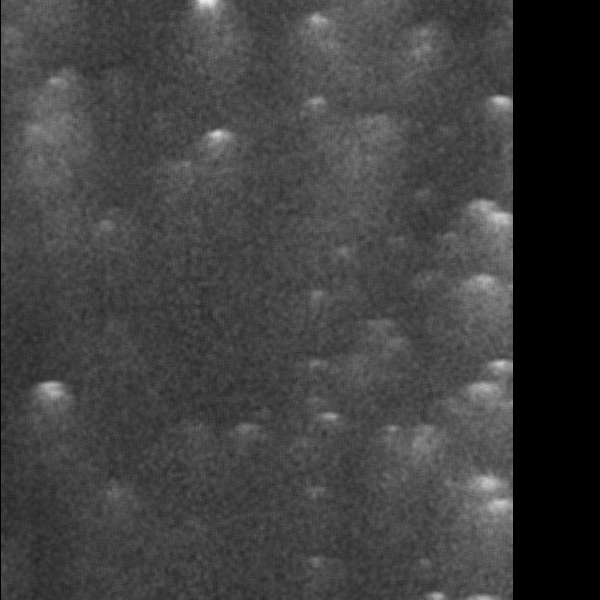spark: (308, 107, 440, 179), (383, 410, 470, 506), (34, 374, 68, 455), (457, 270, 508, 317), (301, 8, 340, 54), (488, 201, 515, 267), (164, 152, 207, 193), (202, 125, 237, 175), (230, 415, 265, 459), (92, 482, 138, 515), (35, 70, 84, 98), (407, 26, 427, 93), (480, 355, 520, 386), (82, 214, 114, 252), (490, 492, 519, 530), (380, 422, 406, 459), (311, 406, 348, 430), (490, 92, 509, 137), (301, 95, 333, 119), (345, 130, 359, 183), (423, 587, 449, 600), (359, 152, 379, 166)
